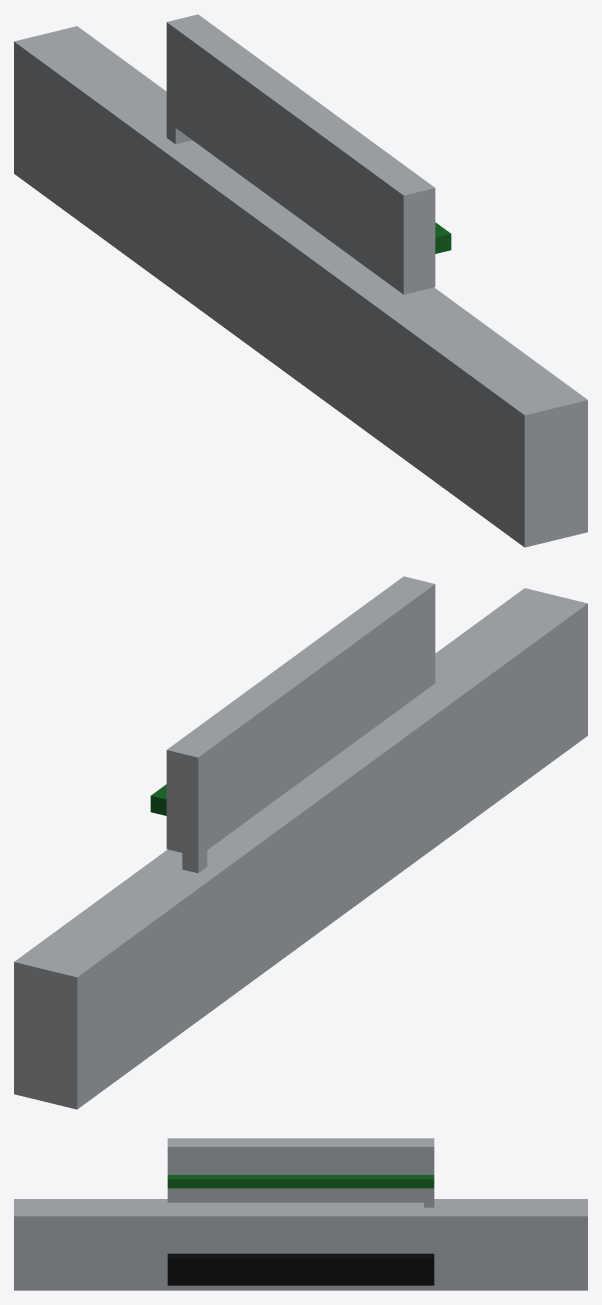
File: electric_saloon_front_bumper.glb
3 views of the same model, one above another, from view 1: azimuth 30°, elevation 25°; view 2: azimuth 150°, elevation 25°; view 3: azimuth 270°, elevation 25° (orthographic). The views are drawn at different scales.
Parts seen in each view (by area): view 1: body:compound; view 2: body:compound; view 3: body:compound.
Boxes of the visible parts, x1,y1,x2,y2 form: body:compound: (14, 14, 587, 547); body:compound: (14, 576, 587, 1109); body:compound: (14, 1138, 587, 1290).
Size of the model in its own units: 0.1562 by 0.4688 by 1.75.
